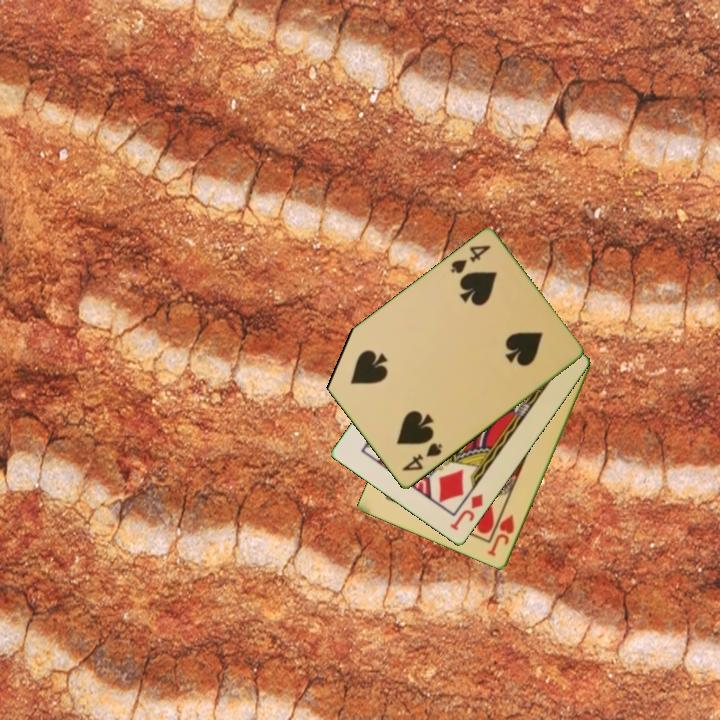4s: (398, 440, 445, 475), (447, 242, 493, 277)
Jd: (447, 490, 486, 534)
Jh: (484, 511, 518, 560)
